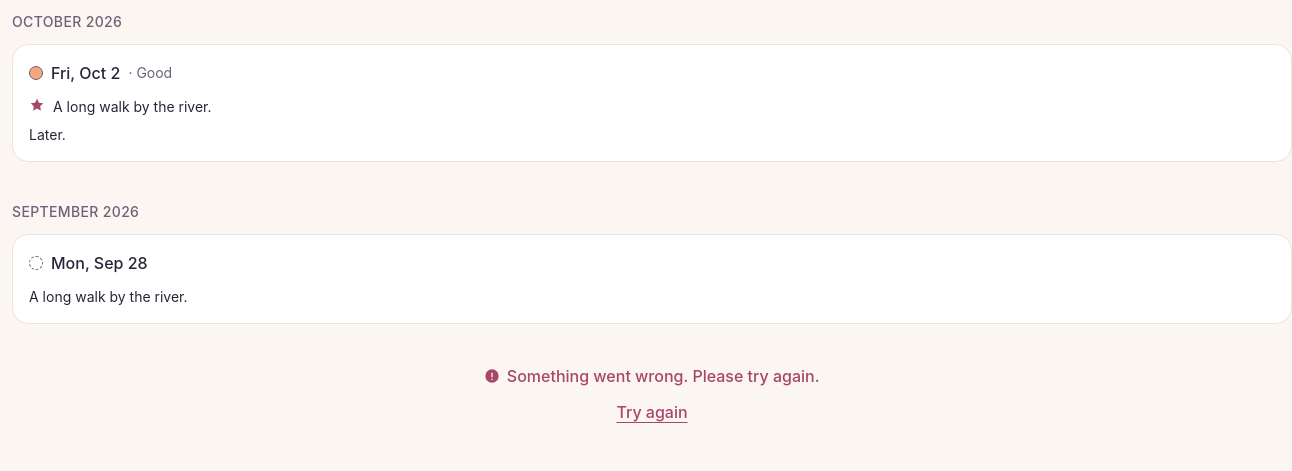
Test: TimelineList › a failed page: the error with Try again, which loads it
Expected: the message reads "Something went wrong. Please try again.", left=507, top=366, right=820, bottom=386
Click the button with test id "timeline-retry" at [652, 412], box left=616, top=400, right=688, bottom=424
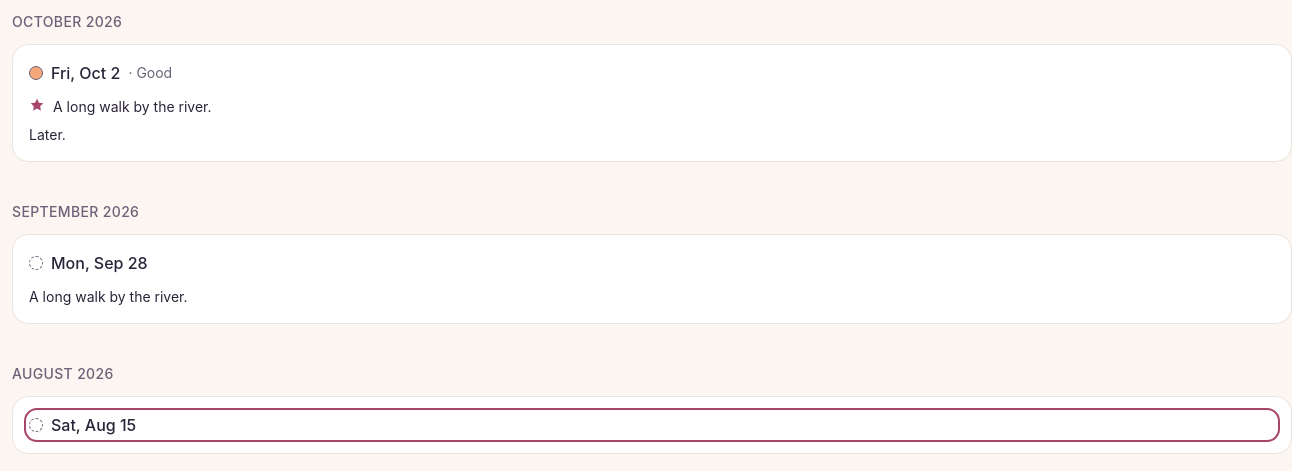
Now the link with test id "timeline-day-2026-08-15" is shown, box left=28, top=415, right=185, bottom=446
